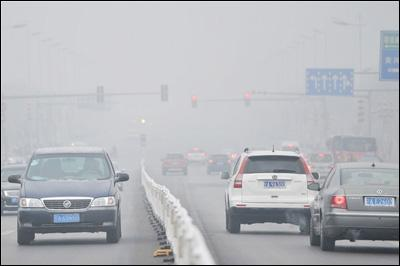bus: (326, 135, 379, 178)
car: (6, 148, 130, 245), (222, 141, 322, 236), (308, 153, 400, 251), (1, 164, 46, 215), (269, 140, 303, 168), (301, 150, 333, 177), (159, 151, 189, 177), (205, 153, 233, 175), (185, 146, 207, 164)
